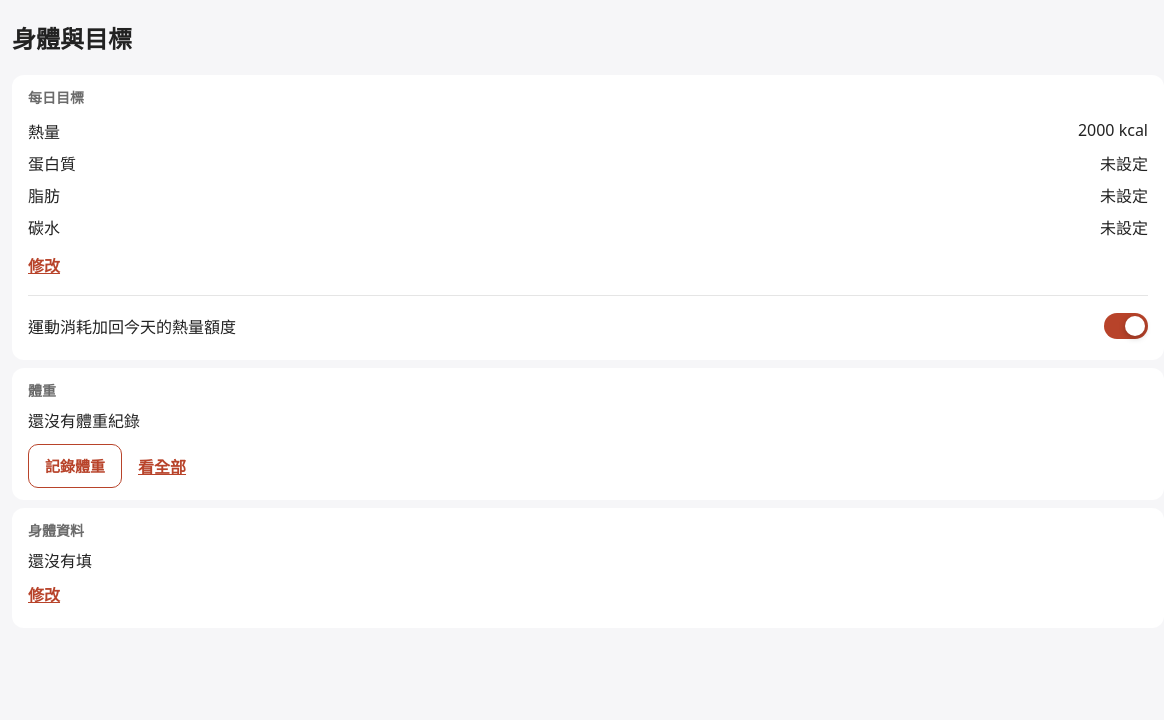
Scenario: 運動消耗加回今天的熱量額度（運動規格 §7.6） › 失敗：說沒有存到，開關回到原值；再點一次成功就把錯誤收掉
Click the switch labelled "運動消耗加回今天的熱量額度".
click(1126, 326)  # box [1104, 313, 1148, 339]
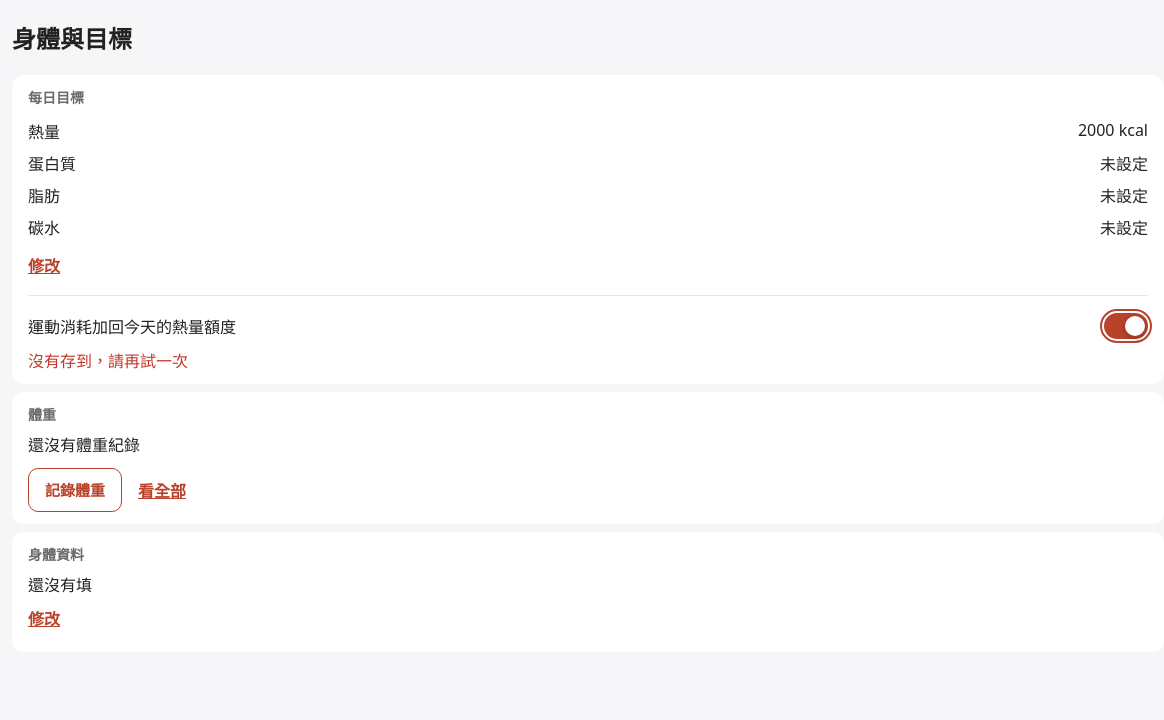
Expected: the message reads "沒有存到，請再試一次", [28, 350, 188, 372]
Click the switch labelled "運動消耗加回今天的熱量額度".
click(1126, 326)  # box [1104, 313, 1148, 339]
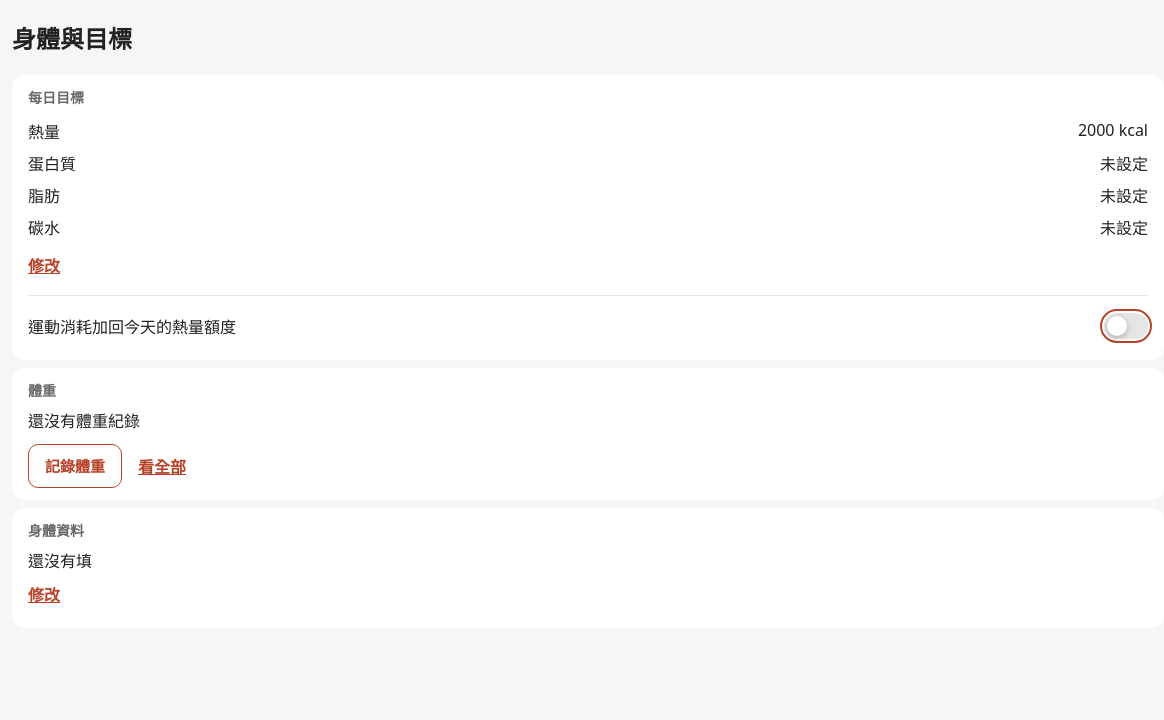
Expected: the switch labelled "運動消耗加回今天的熱量額度" is not checked, [1104, 313, 1148, 339]
Expected: the message "沒有存到，請再試一次" is gone
